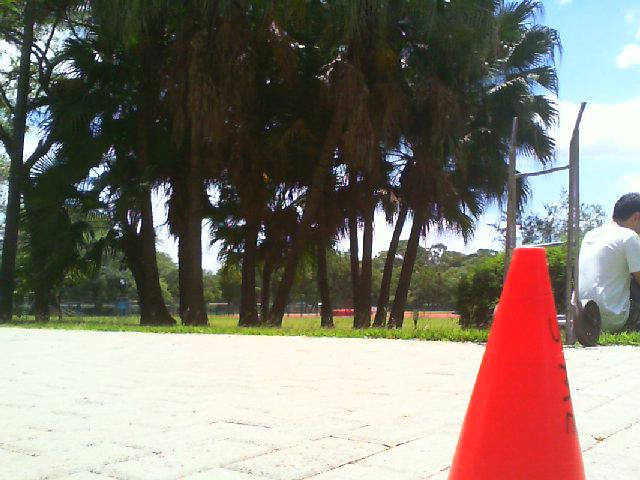0 cone: (448, 245, 586, 480)
